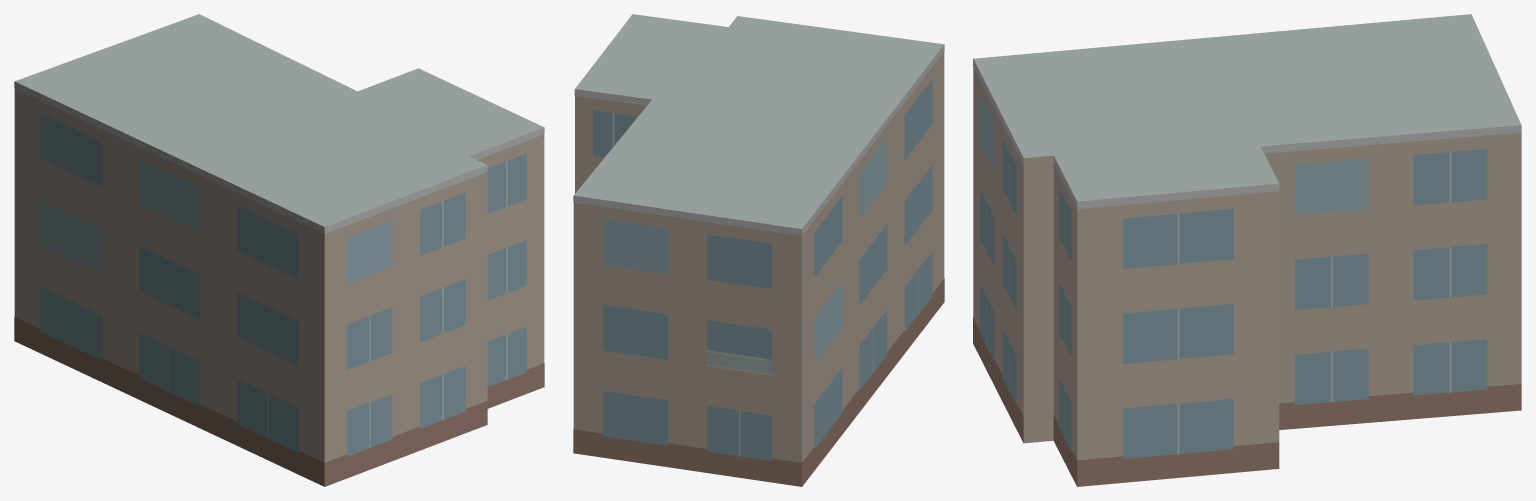
The model's file is survey-upis-32956481.glb.
The picture shows the model from 3 angles, left to right: view 1: azimuth 30°, elevation 25°; view 2: azimuth 150°, elevation 25°; view 3: azimuth 270°, elevation 25°; orthographic projection. The views are drawn at different scales.
Visible parts, largest first — view 1: survey-upis-32956481.tmp; view 2: survey-upis-32956481.tmp; view 3: survey-upis-32956481.tmp.
Boxes of the visible parts, <box> form: survey-upis-32956481.tmp: <box>14,14,544,486</box>; survey-upis-32956481.tmp: <box>573,14,944,486</box>; survey-upis-32956481.tmp: <box>973,14,1521,486</box>.
Size of the model in its own units: 12.92 by 9.15 by 15.96.
